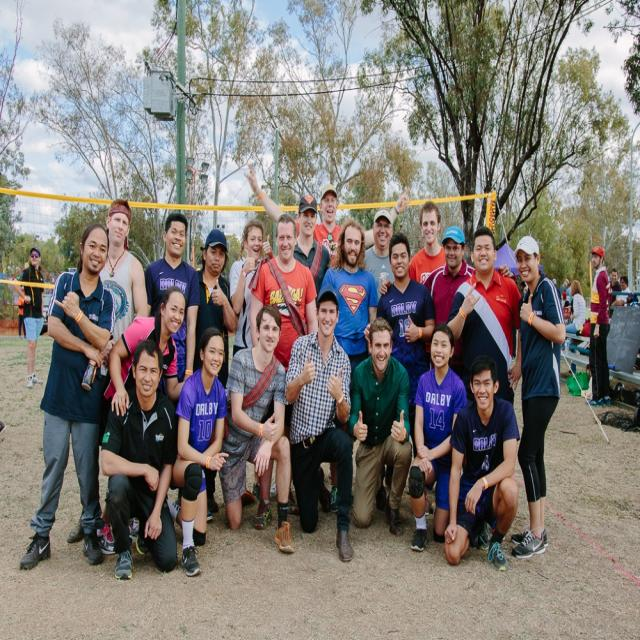body: (17, 220, 116, 574), (64, 196, 148, 546), (95, 284, 186, 556), (248, 211, 320, 520), (215, 301, 297, 557), (378, 222, 512, 372), (284, 282, 354, 562), (508, 232, 567, 560), (100, 338, 179, 582), (316, 216, 380, 516), (242, 161, 413, 270), (162, 322, 230, 580), (444, 353, 520, 574), (186, 227, 238, 512), (347, 315, 413, 537), (407, 322, 469, 554), (445, 225, 523, 408), (373, 229, 438, 433), (142, 209, 204, 382), (228, 217, 276, 358), (10, 243, 46, 390), (293, 194, 331, 308), (586, 244, 612, 410), (404, 198, 447, 282), (361, 208, 395, 306), (565, 279, 587, 375), (607, 267, 623, 321), (611, 273, 634, 307), (16, 285, 28, 340), (559, 277, 571, 296), (0, 413, 6, 440), (561, 287, 568, 308), (551, 276, 557, 288)
